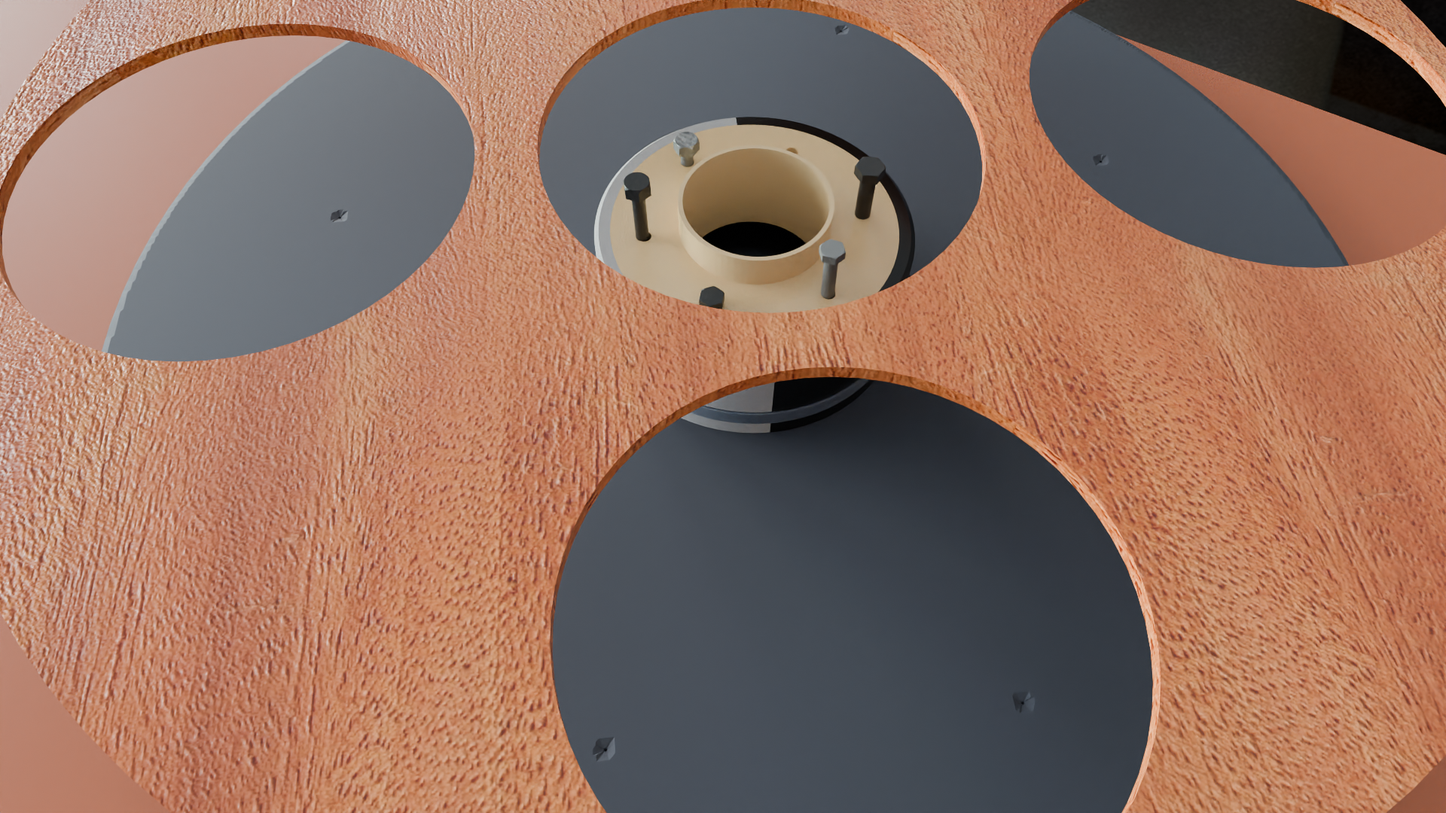bolt: (623, 172, 651, 194), (856, 157, 886, 177), (699, 286, 725, 307), (819, 239, 846, 259), (673, 132, 700, 150)
